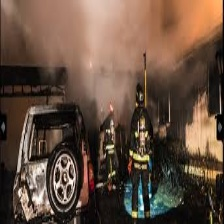smoke: (39, 1, 144, 80)
